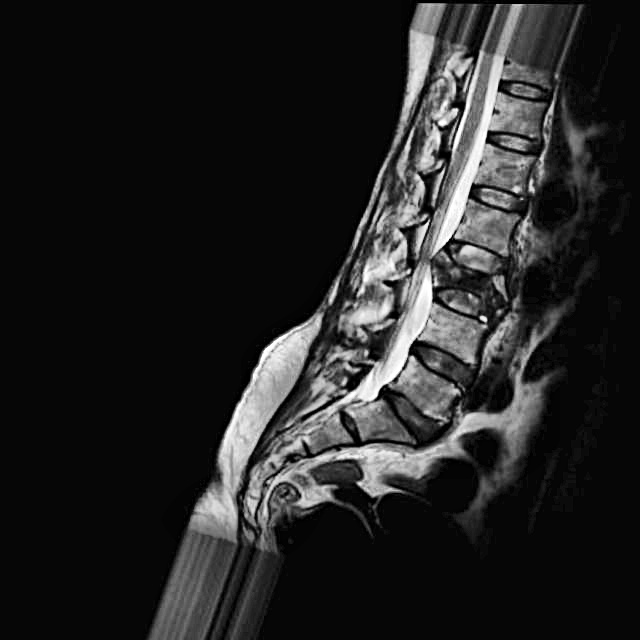Comminuted: (423, 228, 519, 325)
